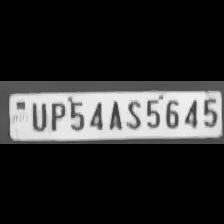4: (86, 96, 106, 130), (181, 96, 199, 128)
5: (66, 97, 86, 130), (199, 95, 219, 127), (143, 96, 161, 128)
6: (162, 96, 180, 128)
A: (104, 97, 122, 129)
P: (46, 97, 66, 130)
S: (122, 96, 142, 128)
U: (28, 98, 48, 130)
